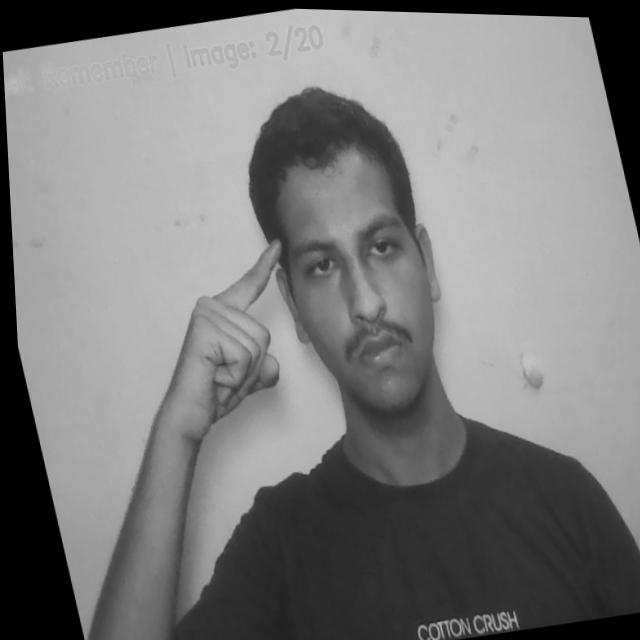Remember: (109, 231, 324, 469)
